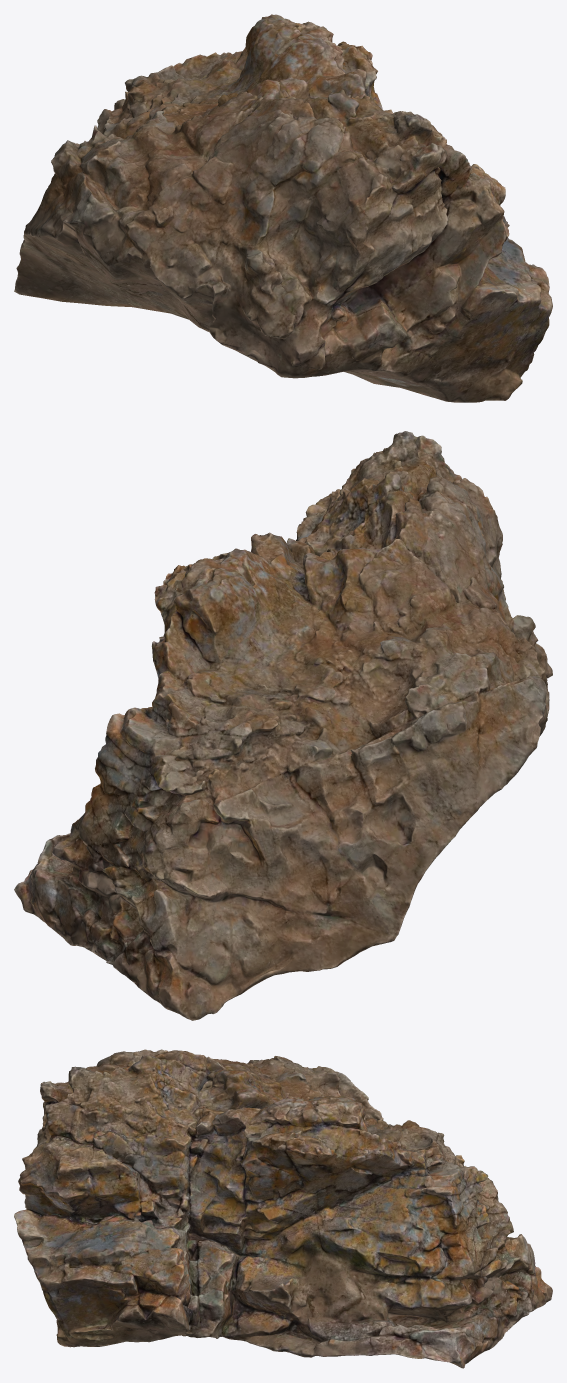
Rendered from boulder_01.glb.
3 views of the same model, one above another, from view 1: azimuth 30°, elevation 25°; view 2: azimuth 150°, elevation 25°; view 3: azimuth 270°, elevation 25° (orthographic). The views are drawn at different scales.
Visible parts, largest first — view 1: boulder_01; view 2: boulder_01; view 3: boulder_01.
Boxes of the visible parts, left/top/right/bottom form: boulder_01: left=14, top=14, right=552, bottom=402; boulder_01: left=14, top=431, right=552, bottom=1020; boulder_01: left=14, top=1049, right=552, bottom=1368.
Size of the model in its own units: 1.27 by 1 by 1.83.
1 material, 1 textured.
